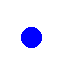circle: (21, 27, 41, 47)
